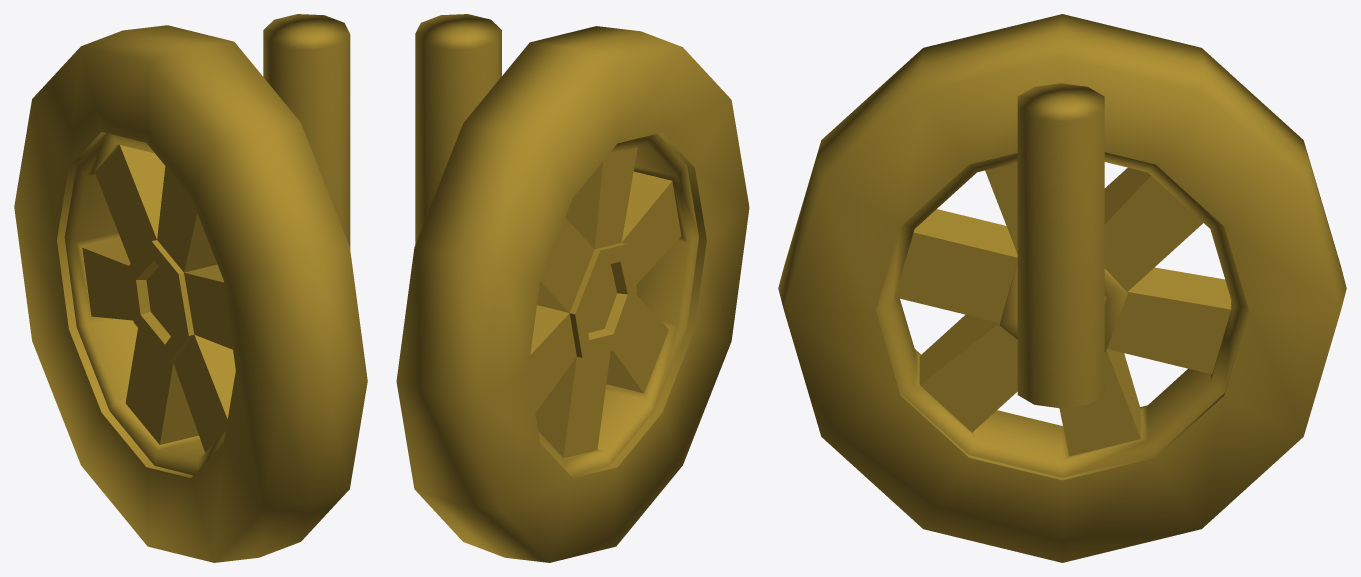
The model's file is Pot_ThunderFeat_R_Leg01.fbx.
3 renders of one model, left to right at view 1: azimuth 30°, elevation 25°; view 2: azimuth 150°, elevation 25°; view 3: azimuth 270°, elevation 25°, orthographic. The views are drawn at different scales.
Visible parts, largest first — view 1: Pot_ThunderFeat_Leg; view 2: Pot_ThunderFeat_Leg; view 3: Pot_ThunderFeat_Leg.
Part boxes in pixels (bbox=[...]): Pot_ThunderFeat_Leg: bbox=[14, 14, 367, 562]; Pot_ThunderFeat_Leg: bbox=[396, 14, 749, 562]; Pot_ThunderFeat_Leg: bbox=[778, 14, 1346, 562].
Bounding box in the file's own units: 4.76 × 11.36 × 11.36.
